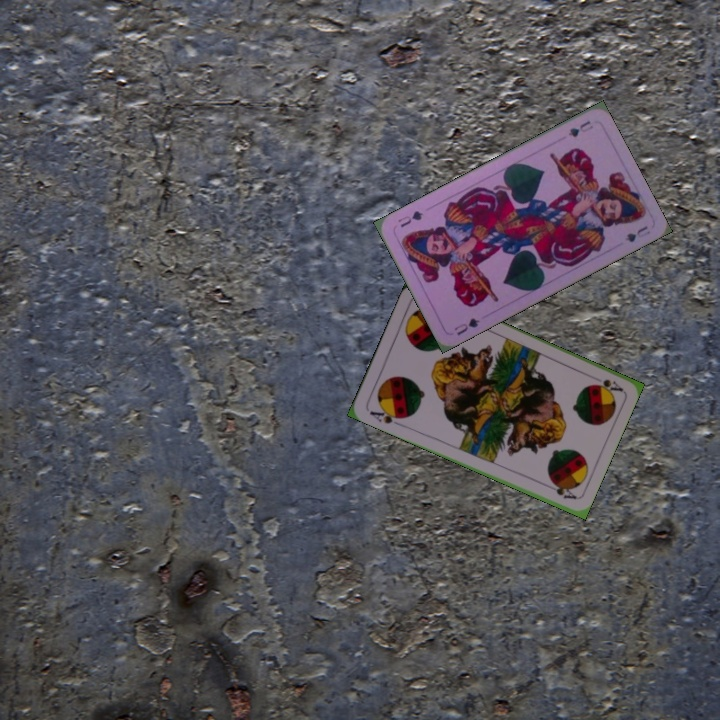GU: (450, 314, 482, 338), (564, 117, 596, 140)
SA: (365, 404, 406, 426), (589, 375, 625, 395)
